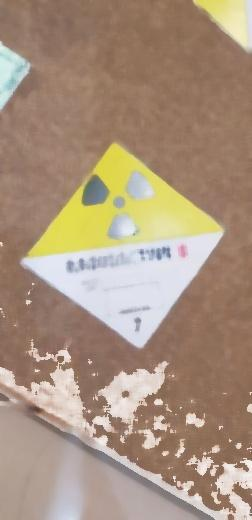radioactive: (20, 142, 226, 351)
